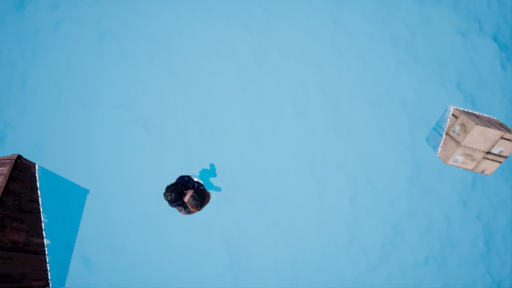person: (170, 160, 230, 217)
